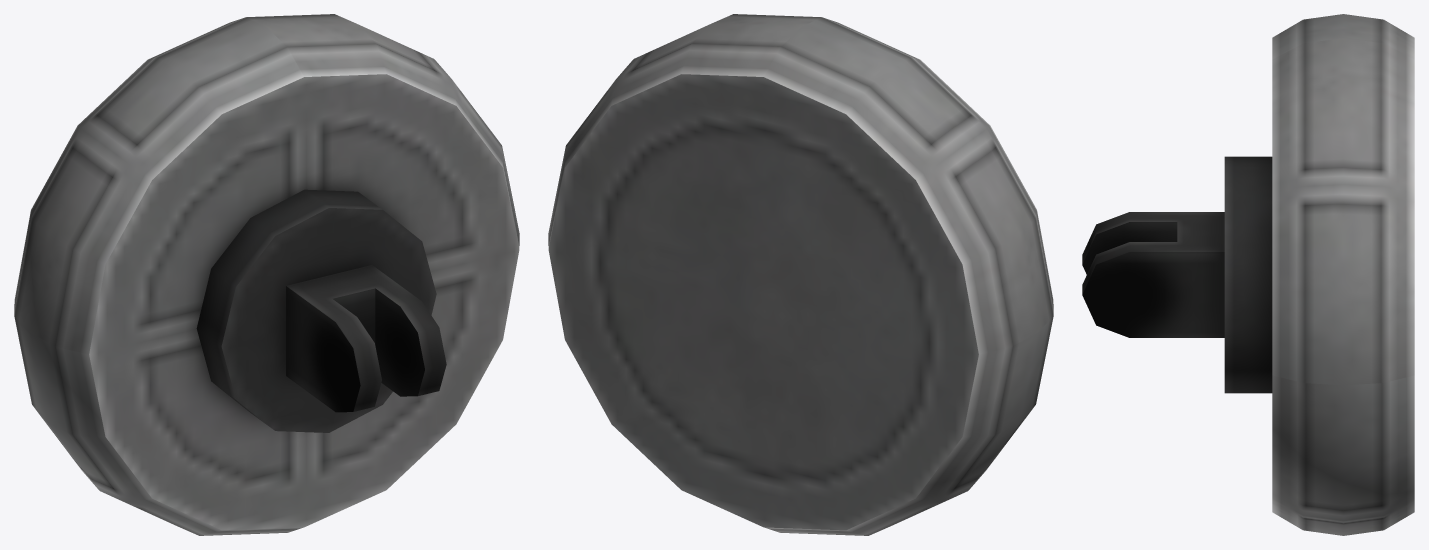
The model's file is lfoot.obj.
The picture shows the model from 3 angles, left to right: view 1: azimuth 30°, elevation 25°; view 2: azimuth 150°, elevation 25°; view 3: azimuth 270°, elevation 25°; orthographic projection. The views are drawn at different scales.
Visible parts, largest first — view 1: f1; view 2: f1; view 3: f1.
Boxes of the visible parts, x1,y1,x2,y2 form: f1: [14, 14, 519, 535]; f1: [548, 14, 1053, 535]; f1: [1082, 14, 1414, 535].
Bounding box in the file's own units: 0.275 × 0.275 × 0.175.
1 material, 1 textured.
